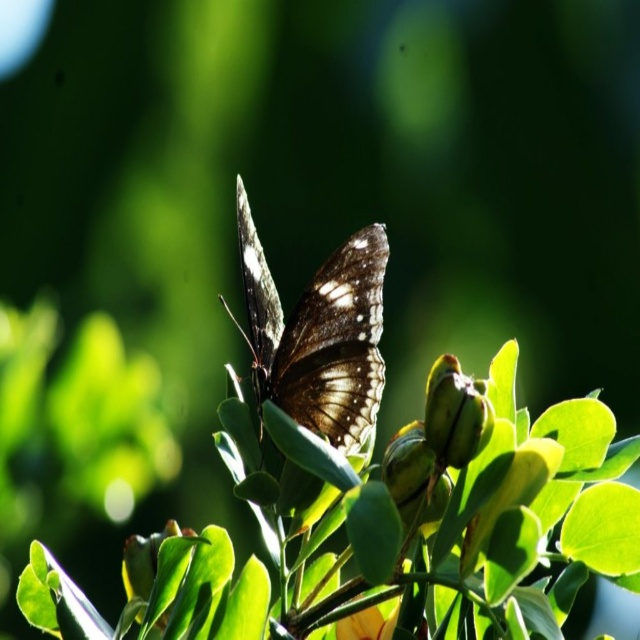Butterfly: (220, 169, 394, 488)
